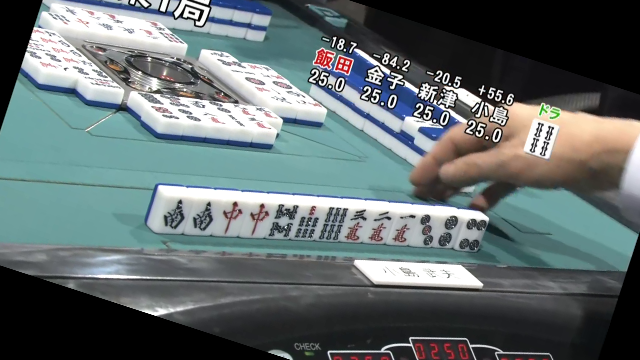Tehai: (149, 186, 489, 252)
